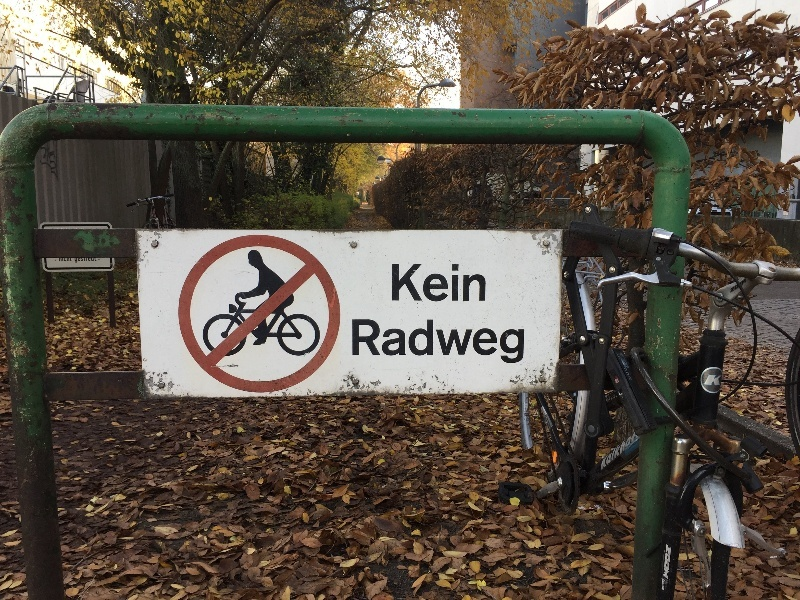text: (353, 320, 368, 364), (369, 320, 384, 364), (385, 320, 400, 364), (401, 320, 416, 364), (417, 320, 432, 364), (433, 320, 448, 364), (449, 320, 464, 364), (465, 320, 480, 364), (481, 320, 496, 364), (497, 320, 512, 364), (609, 428, 624, 471), (625, 428, 640, 471), (401, 264, 416, 301), (417, 264, 432, 301), (433, 264, 448, 301), (449, 264, 464, 301), (465, 264, 480, 301), (513, 320, 525, 364), (392, 264, 400, 301), (603, 428, 608, 471), (625, 437, 640, 451), (481, 264, 486, 301), (667, 544, 672, 579), (708, 375, 720, 386), (662, 578, 672, 591), (81, 258, 96, 263), (614, 379, 624, 384), (665, 579, 672, 586), (75, 258, 80, 263), (65, 259, 72, 262), (97, 258, 100, 263), (59, 259, 64, 262)
